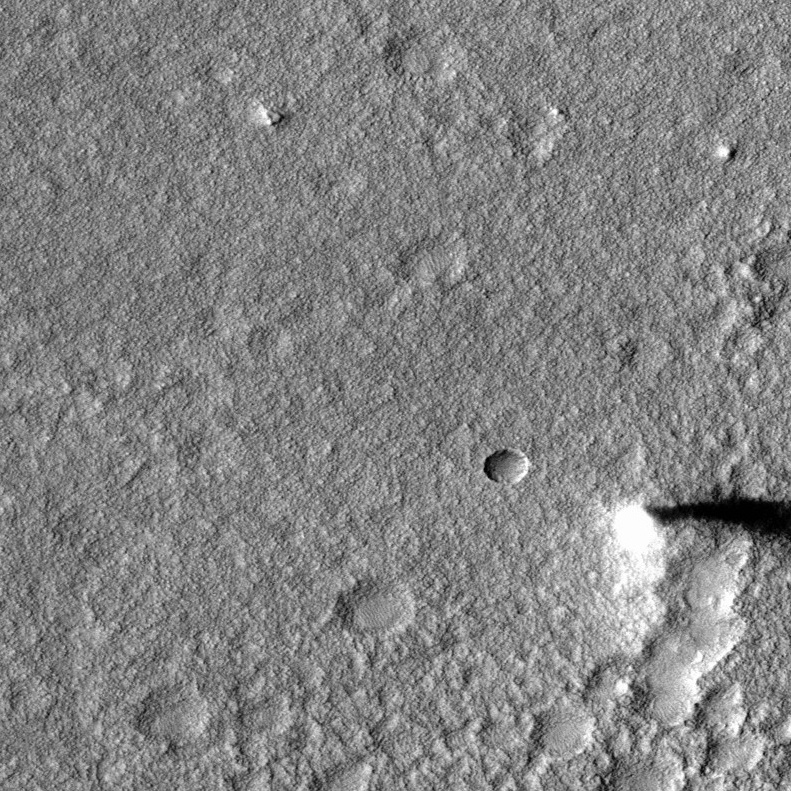dust_devil: (599, 492, 791, 568)
